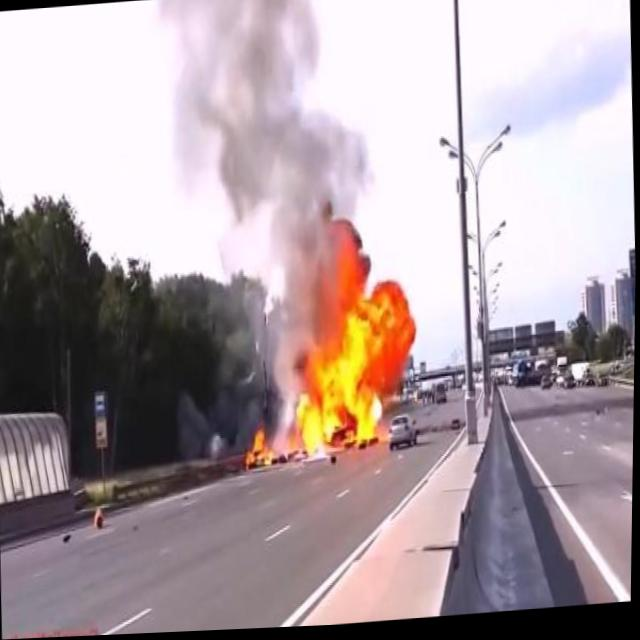fire: (231, 208, 426, 473)
